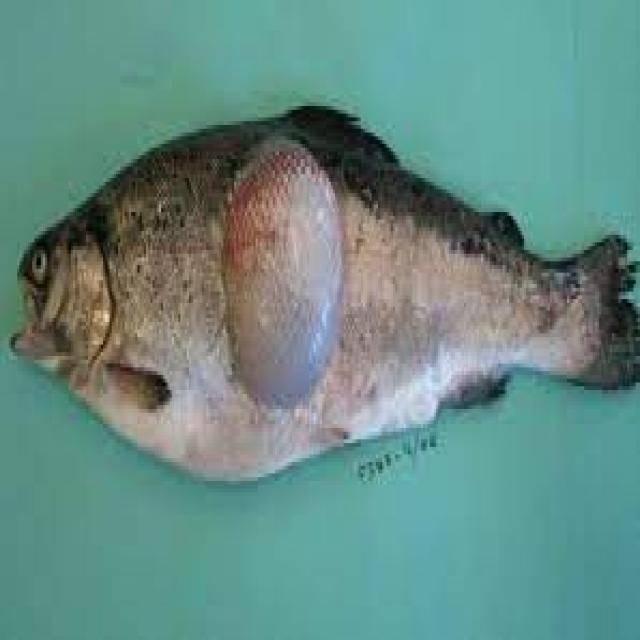EUS Disease: (10, 103, 640, 486), (187, 137, 640, 436)
